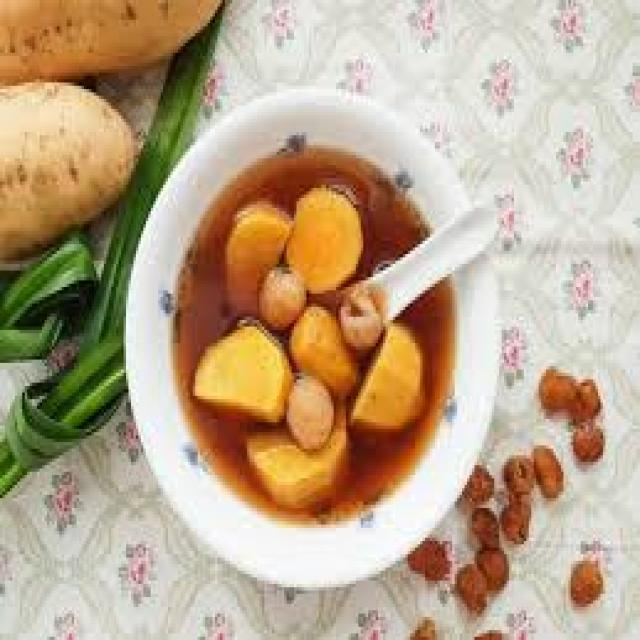Potato: (225, 188, 361, 307), (247, 402, 346, 508), (193, 323, 289, 422), (348, 323, 420, 429), (289, 310, 353, 393)
